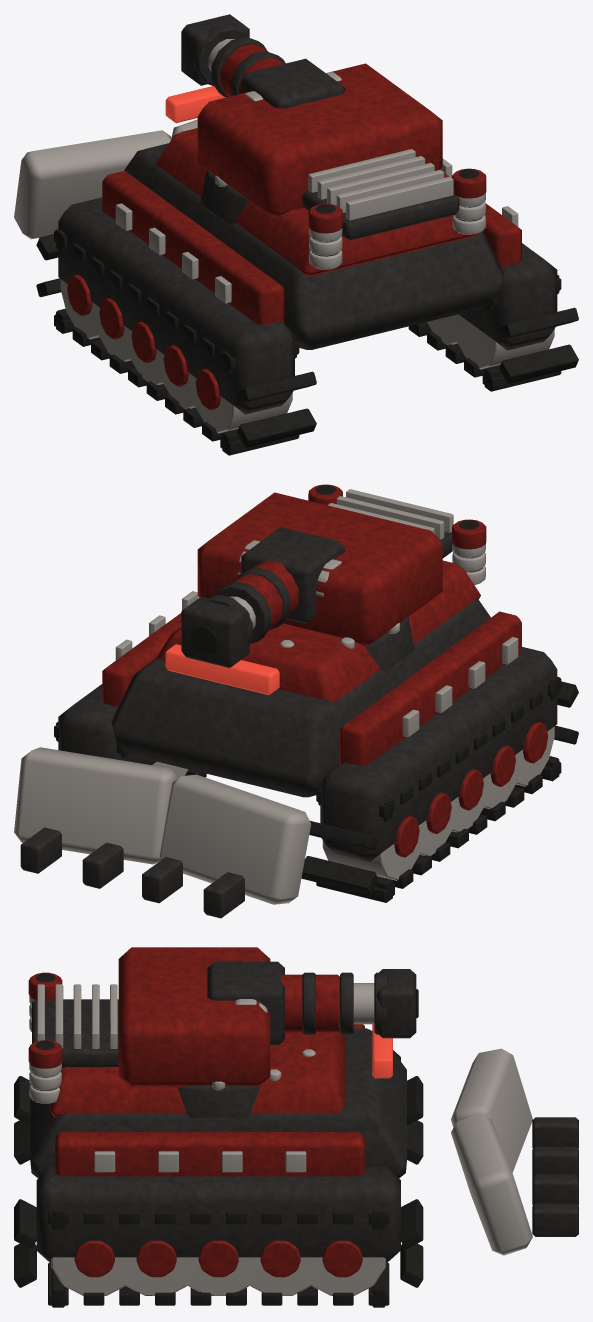
The model's file is kharn_demolisseur.gltf.
3 views of the same model, one above another, from view 1: azimuth 30°, elevation 25°; view 2: azimuth 150°, elevation 25°; view 3: azimuth 270°, elevation 25° (orthographic). The views are drawn at different scales.
Parts seen in each view (by area): view 1: Root.023_Geometry, TurretYaw.009_Geometry, Track_-0.85_0_Geometry, Tool_0.002_Geometry, GunRecoil.008_Geometry, Track_0.85_0_Geometry, GunPitch.011_Geometry, Wheel_-0.84535_0_Geometry, Wheel_0.84535_0_Geometry, Wheel_-0.84535_4_Geometry, Wheel_-0.84535_1_Geometry, Wheel_-0.84535_2_Geometry (+2 smaller); view 2: Root.023_Geometry, Tool_0.002_Geometry, TurretYaw.009_Geometry, Track_-0.85_0_Geometry, GunRecoil.008_Geometry, GunPitch.011_Geometry, Wheel_-0.84535_4_Geometry, Wheel_-0.84535_1_Geometry, Wheel_-0.84535_0_Geometry, Wheel_-0.84535_2_Geometry, Wheel_-0.84535_3_Geometry; view 3: Root.023_Geometry, TurretYaw.009_Geometry, Tool_0.002_Geometry, Track_0.85_0_Geometry, GunRecoil.008_Geometry, GunPitch.011_Geometry, Wheel_0.84535_0_Geometry, Wheel_0.84535_4_Geometry, Wheel_0.84535_3_Geometry, Wheel_0.84535_2_Geometry, Wheel_0.84535_1_Geometry, Track_-0.85_0_Geometry.
Part boxes in pixels (bbox=[...]): Root.023_Geometry: bbox=[58, 86, 557, 414]; TurretYaw.009_Geometry: bbox=[197, 63, 442, 217]; Track_-0.85_0_Geometry: bbox=[36, 229, 316, 455]; Tool_0.002_Geometry: bbox=[14, 119, 197, 239]; GunRecoil.008_Geometry: bbox=[181, 14, 285, 97]; Track_0.85_0_Geometry: bbox=[408, 274, 578, 391]; GunPitch.011_Geometry: bbox=[241, 58, 345, 108]; Wheel_-0.84535_0_Geometry: bbox=[189, 368, 292, 433]; Wheel_0.84535_0_Geometry: bbox=[451, 315, 554, 369]; Wheel_-0.84535_4_Geometry: bbox=[60, 274, 100, 339]; Wheel_-0.84535_1_Geometry: bbox=[157, 345, 195, 408]; Wheel_-0.84535_2_Geometry: bbox=[125, 321, 163, 384]; Root.023_Geometry: bbox=[58, 484, 557, 861]; Tool_0.002_Geometry: bbox=[14, 747, 311, 918]; TurretYaw.009_Geometry: bbox=[197, 492, 442, 646]; Track_-0.85_0_Geometry: bbox=[301, 676, 578, 902]; GunRecoil.008_Geometry: bbox=[181, 560, 298, 667]; GunPitch.011_Geometry: bbox=[238, 527, 345, 623]; Wheel_-0.84535_4_Geometry: bbox=[322, 816, 425, 880]; Wheel_-0.84535_1_Geometry: bbox=[481, 745, 520, 809]; Wheel_-0.84535_0_Geometry: bbox=[515, 722, 554, 786]; Wheel_-0.84535_2_Geometry: bbox=[449, 769, 484, 832]; Wheel_-0.84535_3_Geometry: bbox=[419, 792, 452, 856]; Root.023_Geometry: bbox=[28, 972, 406, 1263]; TurretYaw.009_Geometry: bbox=[118, 947, 270, 1087]; Tool_0.002_Geometry: bbox=[451, 1048, 578, 1255]; Track_0.85_0_Geometry: bbox=[14, 1199, 423, 1307]; GunRecoil.008_Geometry: bbox=[281, 969, 418, 1038]; GunPitch.011_Geometry: bbox=[207, 961, 284, 1045]; Wheel_0.84535_0_Geometry: bbox=[51, 1240, 135, 1295]; Wheel_0.84535_4_Geometry: bbox=[301, 1240, 385, 1295]; Wheel_0.84535_3_Geometry: bbox=[239, 1240, 321, 1295]; Wheel_0.84535_2_Geometry: bbox=[177, 1240, 259, 1295]; Wheel_0.84535_1_Geometry: bbox=[115, 1240, 197, 1295]; Track_-0.85_0_Geometry: bbox=[14, 1076, 423, 1164].
Size of the model in its own units: 2.15 by 1.63 by 3.28.
5 materials, 3 textured.
